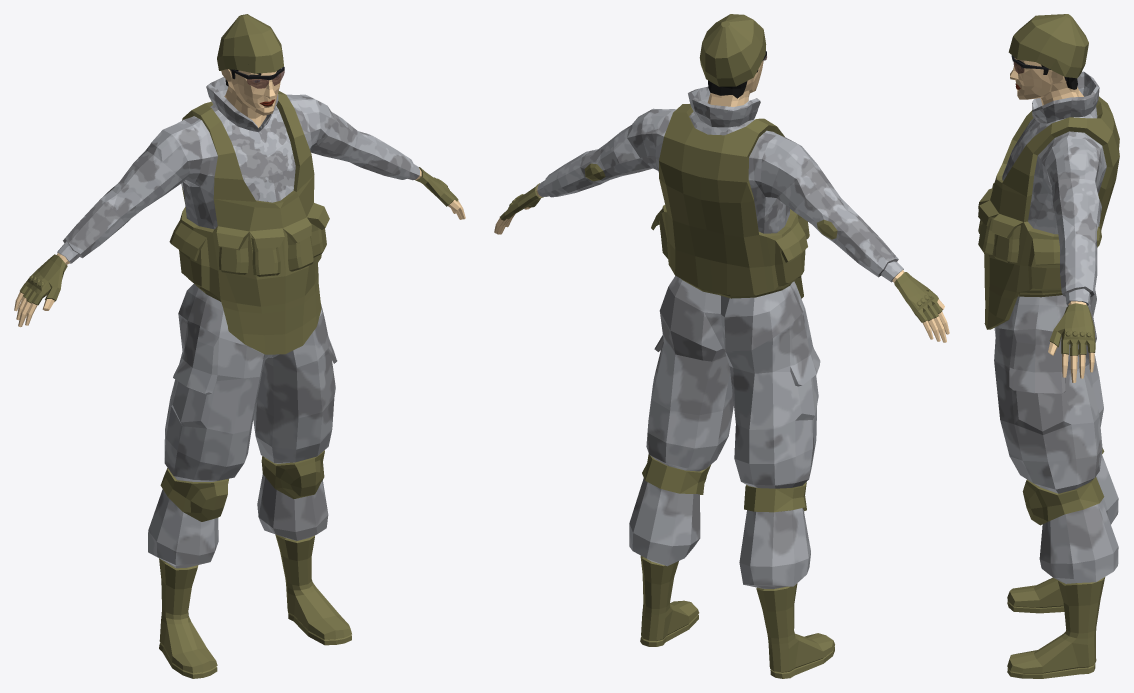
The model's file is SM_M_Soldier_M05.fbx.
The picture shows the model from 3 angles, left to right: view 1: azimuth 30°, elevation 25°; view 2: azimuth 150°, elevation 25°; view 3: azimuth 270°, elevation 25°; orthographic projection.
Parts seen in each view (by area): view 1: Sphere, Cylinder; view 2: Sphere, Cylinder; view 3: Sphere, Cylinder, Plane.
Part boxes in pixels (left/top/right/bottom): Sphere: left=14, top=68, right=465, bottom=678; Cylinder: left=217, top=14, right=283, bottom=73; Sphere: left=494, top=61, right=949, bottom=678; Cylinder: left=699, top=14, right=766, bottom=86; Sphere: left=978, top=58, right=1119, bottom=678; Cylinder: left=1008, top=14, right=1088, bottom=78; Plane: left=1011, top=55, right=1067, bottom=80.
Bounding box in the file's own units: 129 × 173 × 35.66.
